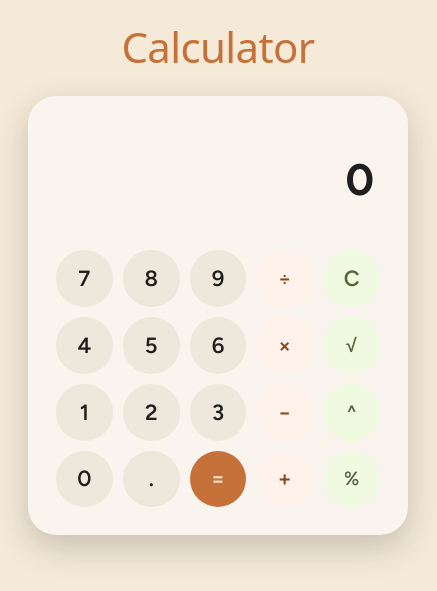
Test: backend errors are surfaced (ADR-0005) › renders the API error message for square root of a negative number
Click the button "9" at x=218, y=278, box 190,250 -> 246,307
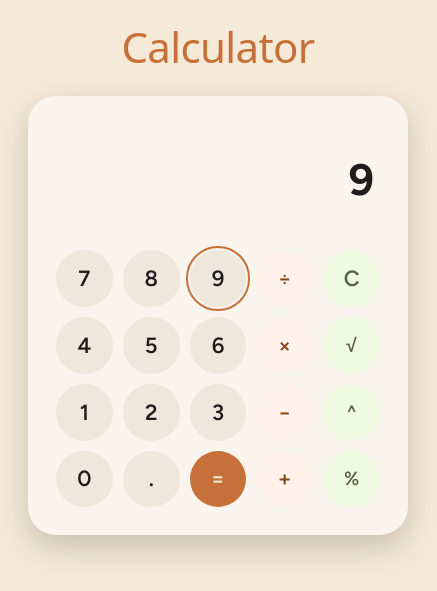
Click the button named "subtract" at x=285, y=412, box 256,384 -> 313,440
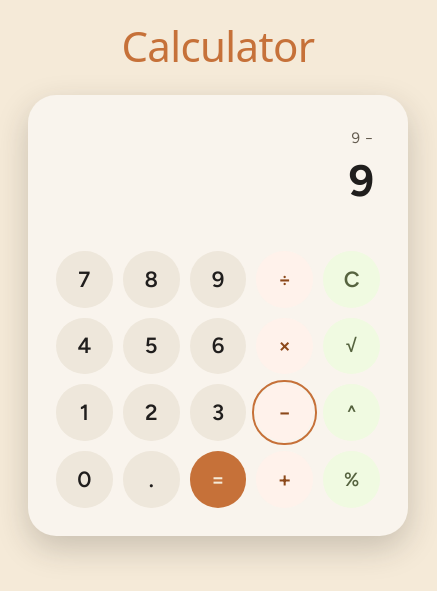
Click the button "1" at x=84, y=413, box 56,384 -> 113,441
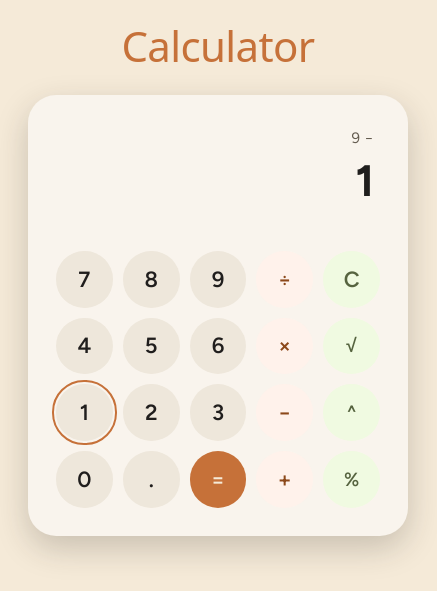
Click the button "6" at x=218, y=346, box 190,318 -> 246,374
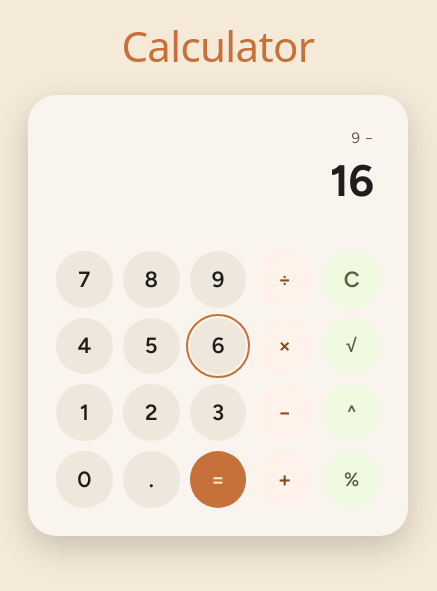
Click the button named "equals" at x=218, y=480, box 190,451 -> 246,508
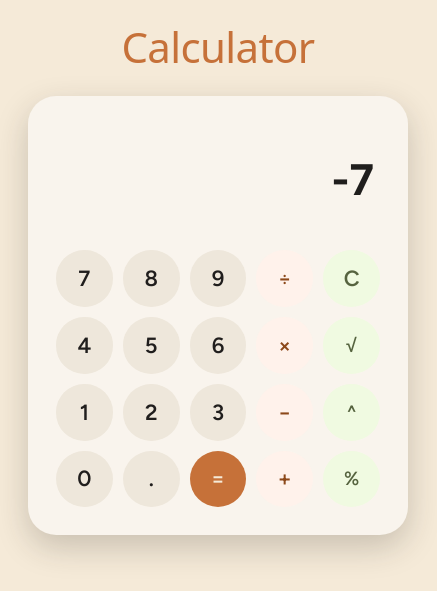
Click the button named "square root" at x=352, y=345, box 323,317 -> 380,374
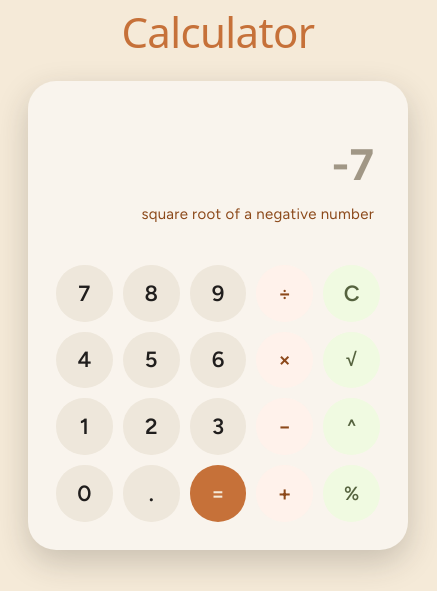
Check: the message reads "square root of a negative number", box 141,206 -> 374,224
